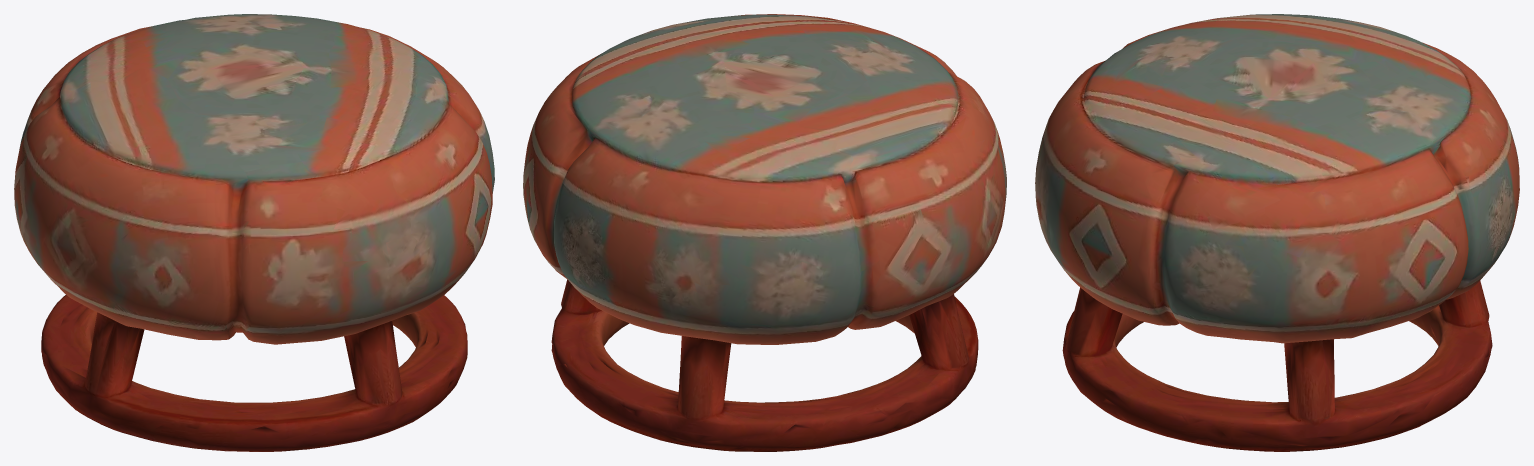
The model's file is wuesten_hocker_a.glb.
3 renders of one model, left to right at view 1: azimuth 30°, elevation 25°; view 2: azimuth 150°, elevation 25°; view 3: azimuth 270°, elevation 25°, orthographic.
Visible parts, largest first — view 1: tripo_node_2b79a2e5-9fa0-48dc-952c-9294f90685fb; view 2: tripo_node_2b79a2e5-9fa0-48dc-952c-9294f90685fb; view 3: tripo_node_2b79a2e5-9fa0-48dc-952c-9294f90685fb.
Boxes of the visible parts, <box> form: tripo_node_2b79a2e5-9fa0-48dc-952c-9294f90685fb: <box>14,14,494,451</box>; tripo_node_2b79a2e5-9fa0-48dc-952c-9294f90685fb: <box>523,14,1006,451</box>; tripo_node_2b79a2e5-9fa0-48dc-952c-9294f90685fb: <box>1035,14,1519,451</box>.
Bounding box in the file's own units: 1.02 × 0.6704 × 1.02.
1 material, 1 textured.
